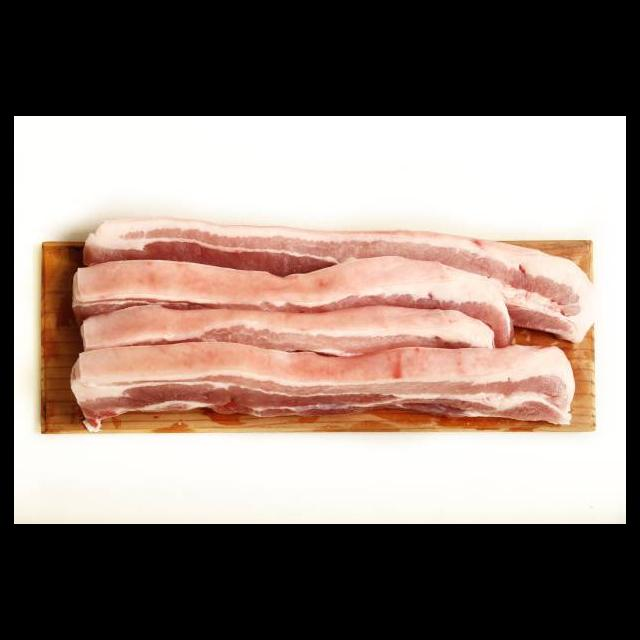pork: (74, 214, 592, 347), (73, 339, 578, 430)
